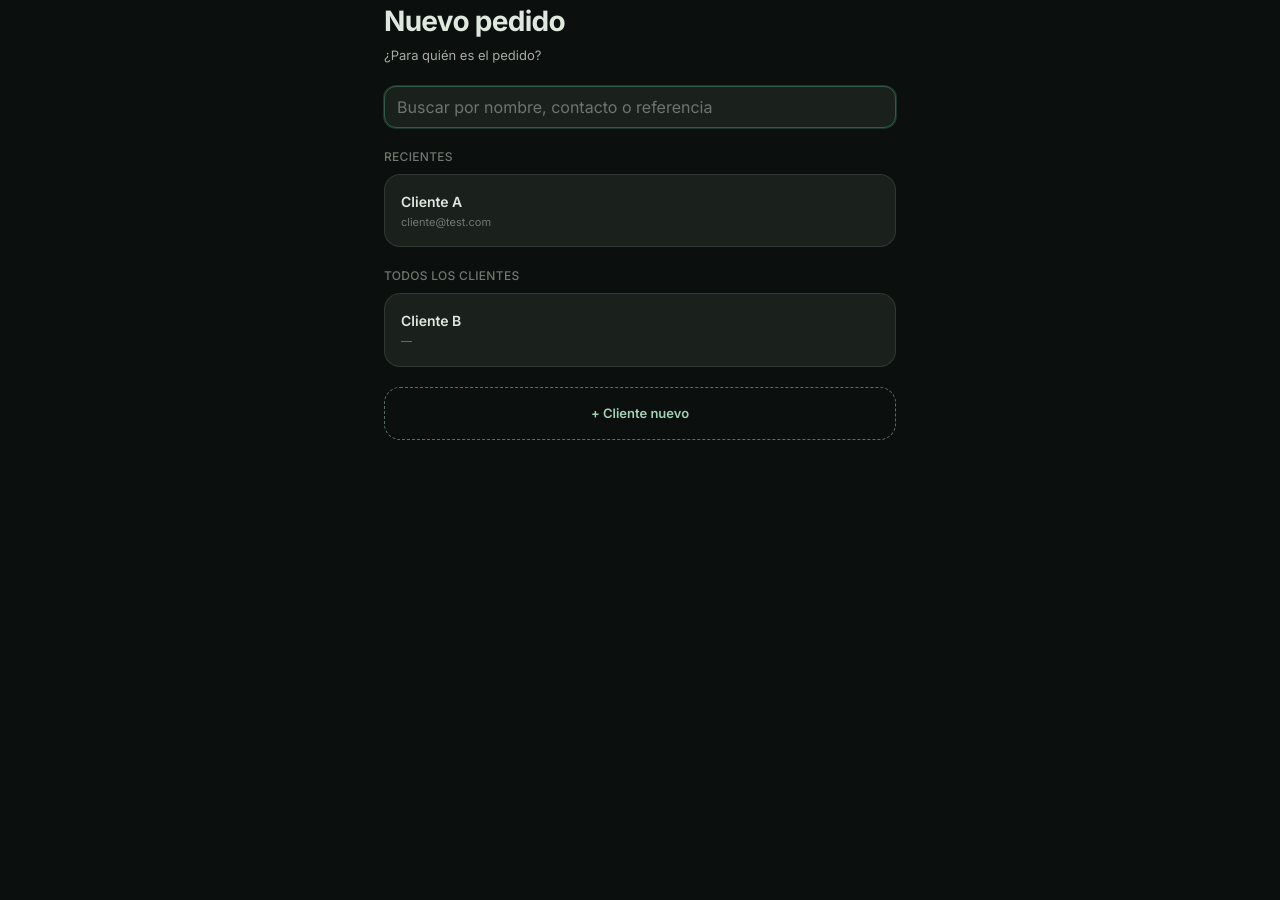
Scenario: NuevoPedidoPage › permite escribir la cantidad de sueltos directamente desde la tarjeta
Click the button "Cliente A cliente@test.com": (432, 201) [384,174,896,247]
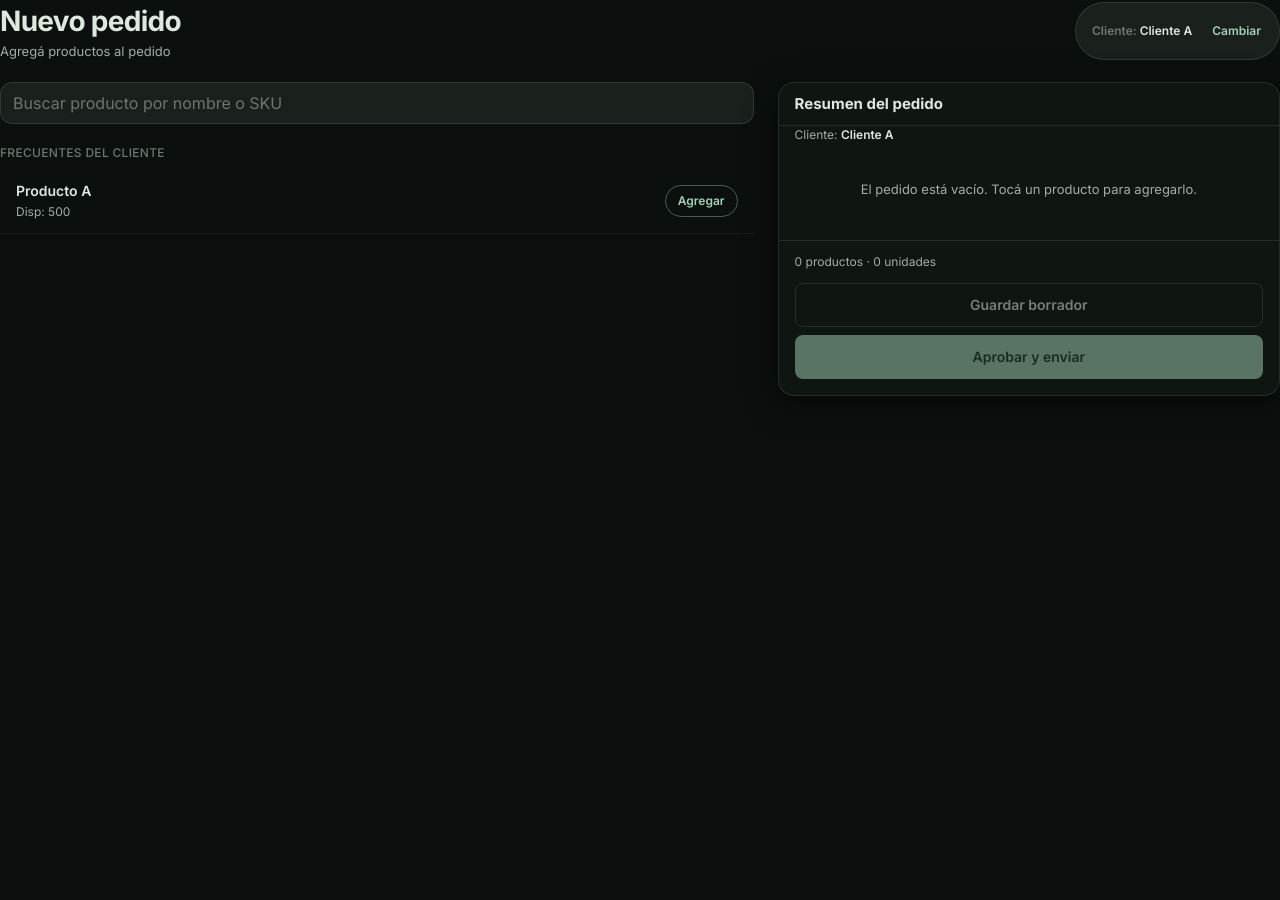
expect the button "Cambiar" is shown: met, box [1200,9,1273,53]
Click the button with aria-label "Producto A": (701, 201) [665,185,738,217]
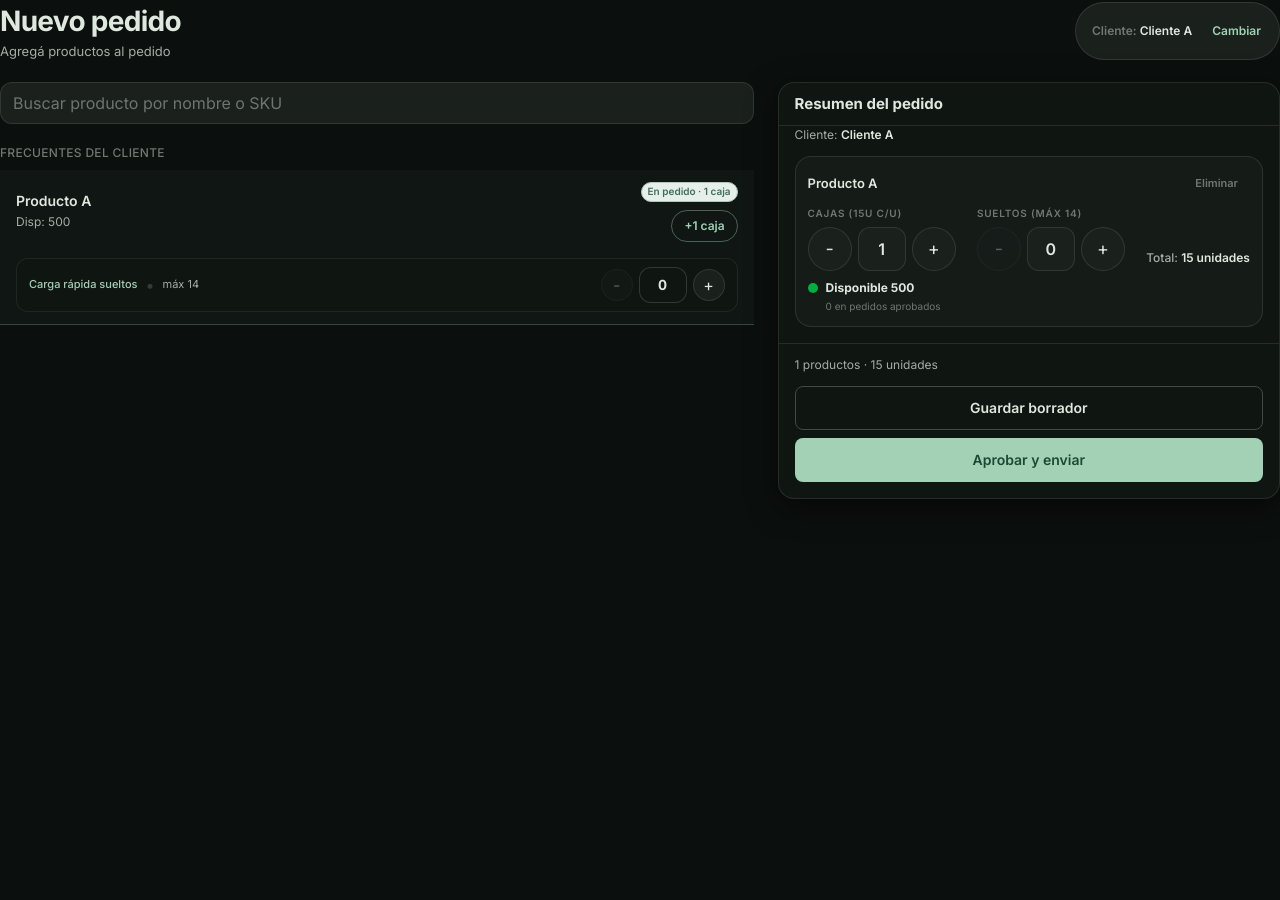
Replace the text in the field named "sueltos" in the row of "Carga rápida sueltos" with "7": (663, 284) [639,266,687,302]
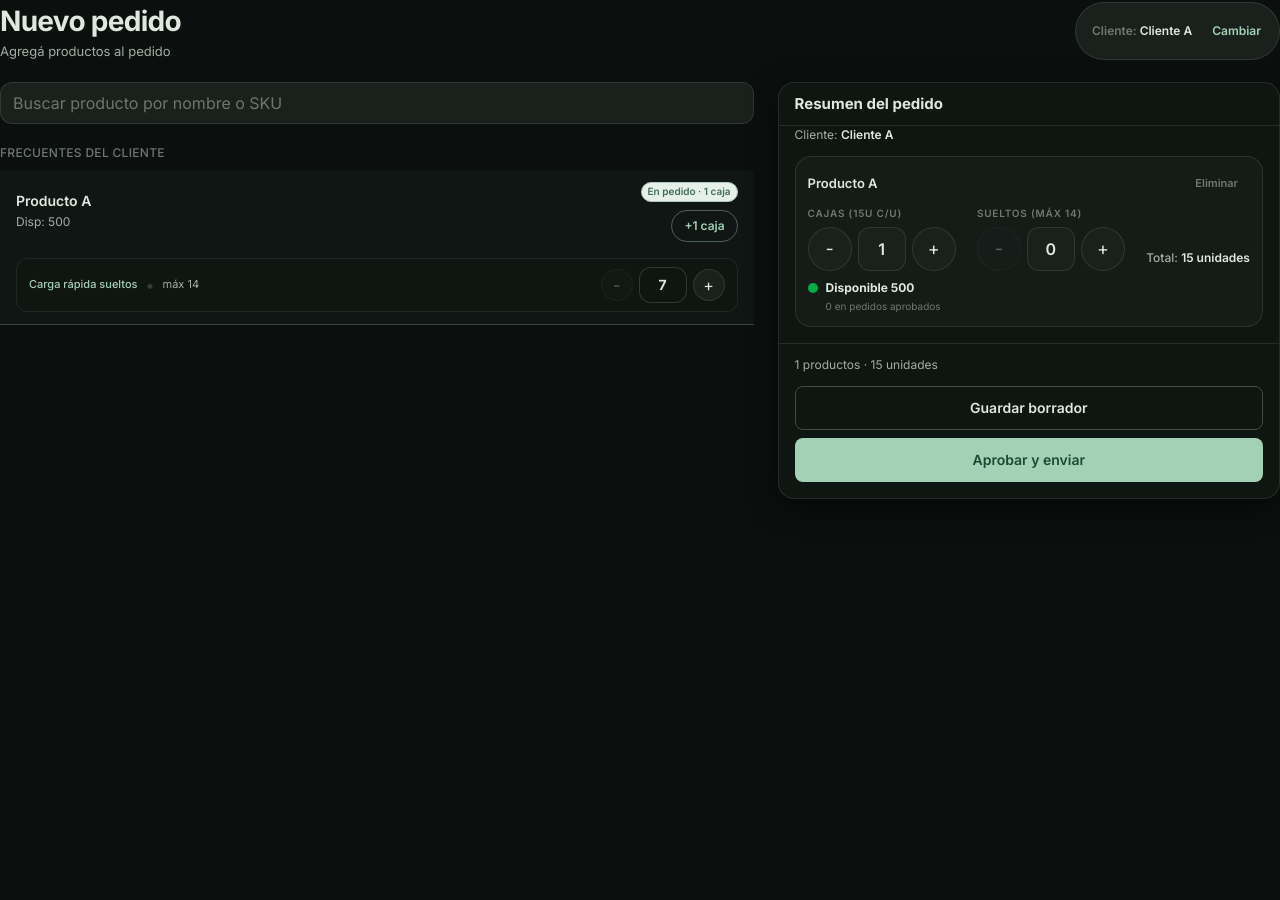
Leave the field named "sueltos" in the row of "Carga rápida sueltos", box [639,266,687,302]
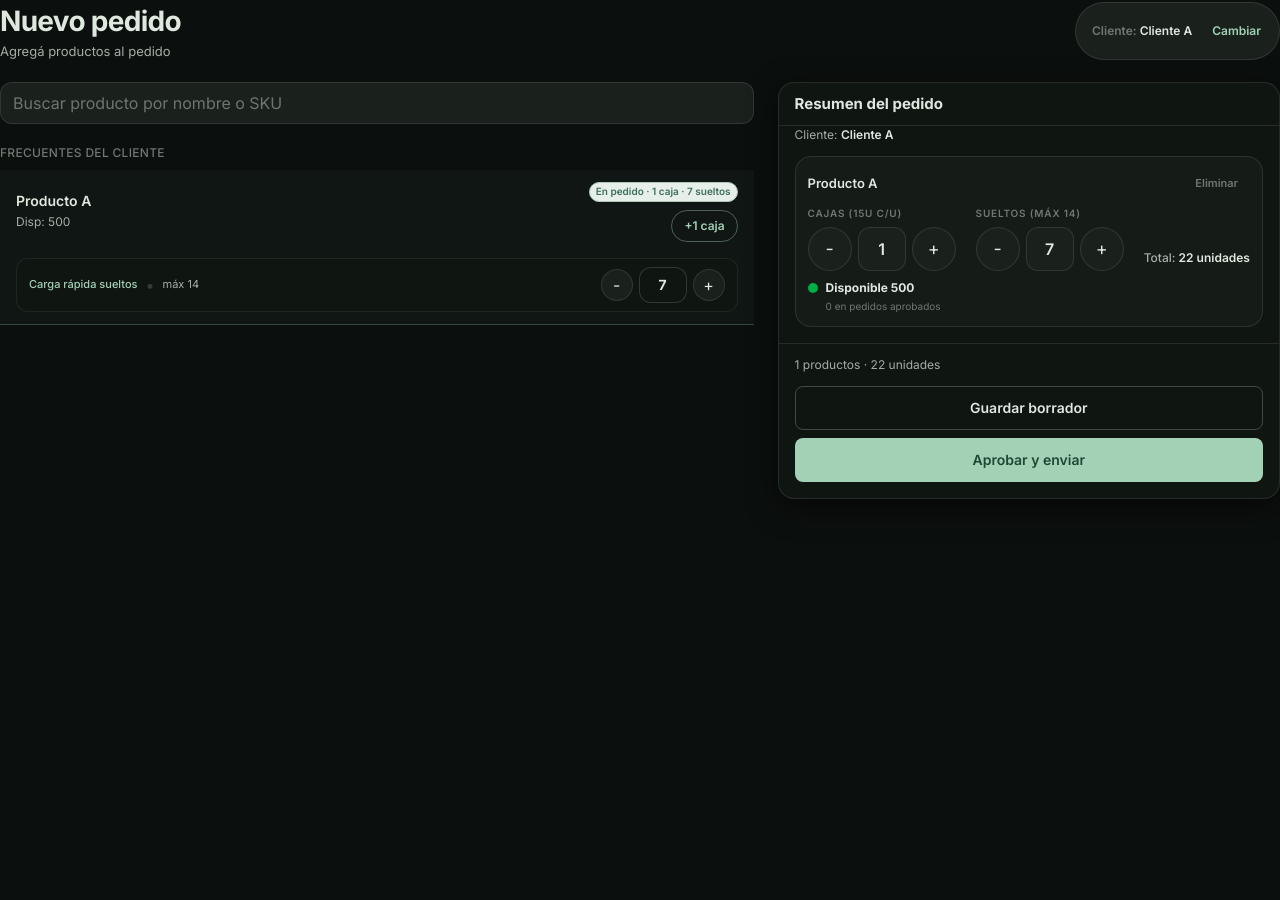
expect the text "En pedido · 1 caja · 7 sueltos" is shown: met, box [589,182,738,202]
Replace the text in the field named "sueltos" in the row of "Carga rápida sueltos" with "99": (663, 284) [639,266,687,302]
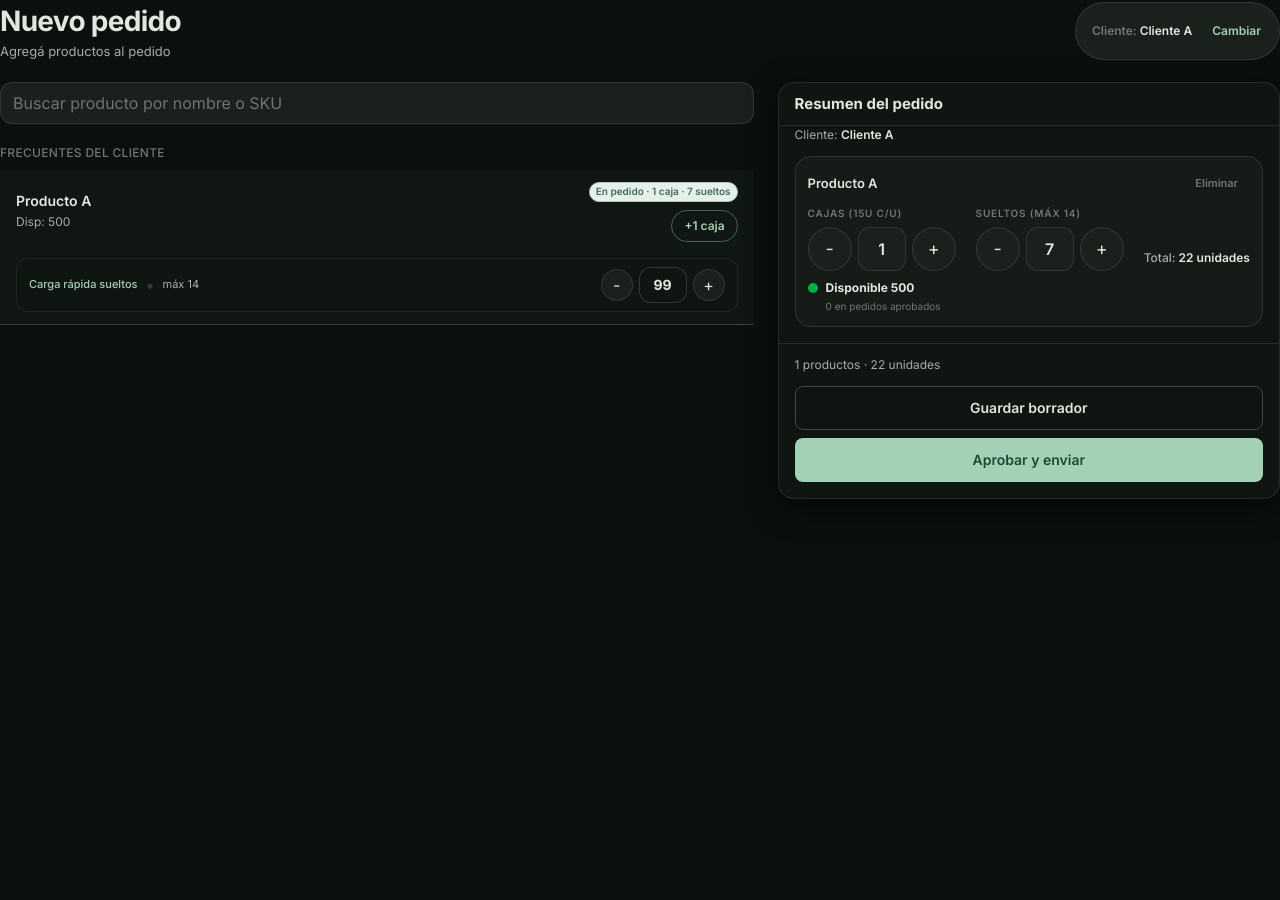
Leave the field named "sueltos" in the row of "Carga rápida sueltos", box [639,266,687,302]
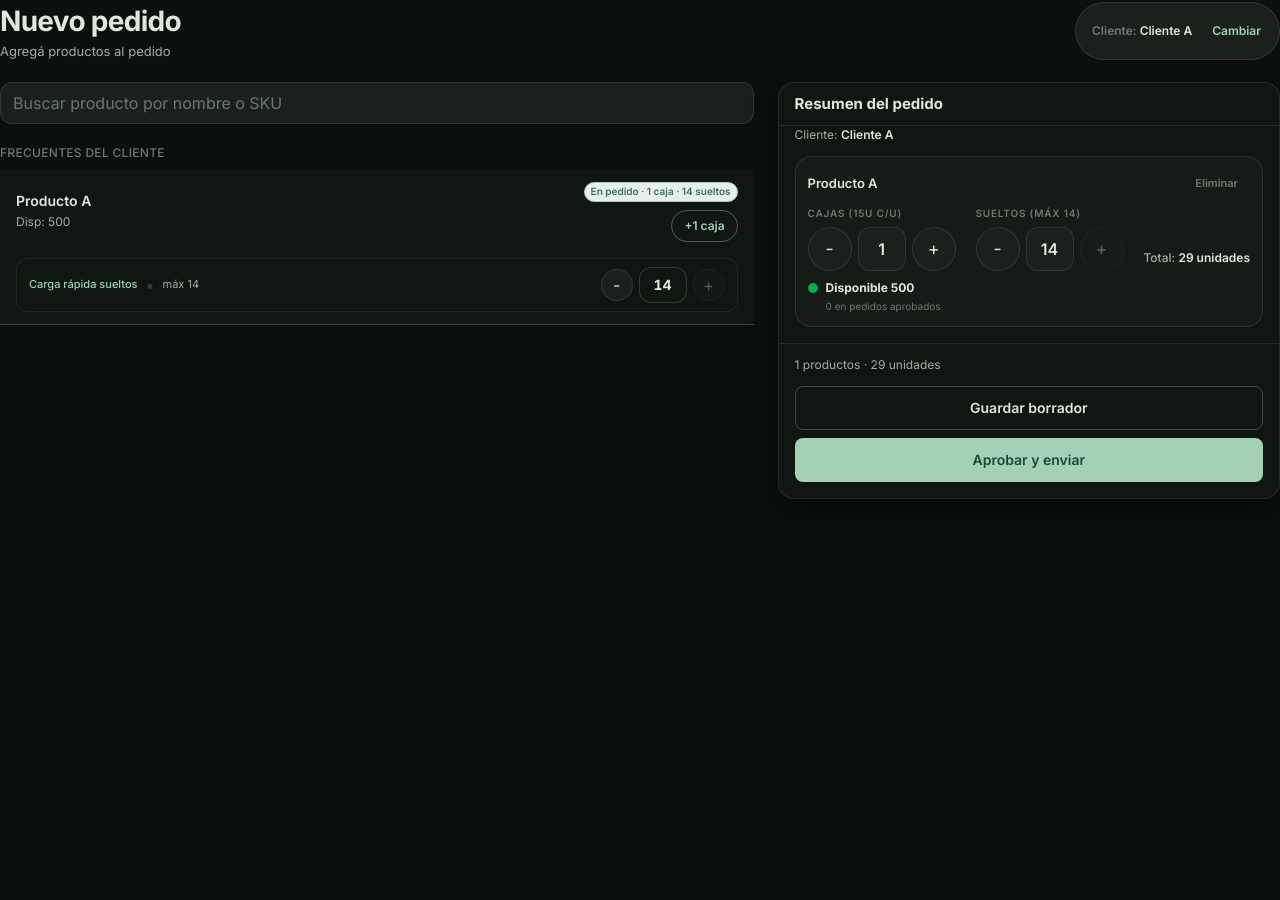
expect the text "En pedido · 1 caja · 14 sueltos" is shown: met, box [584,182,738,202]
